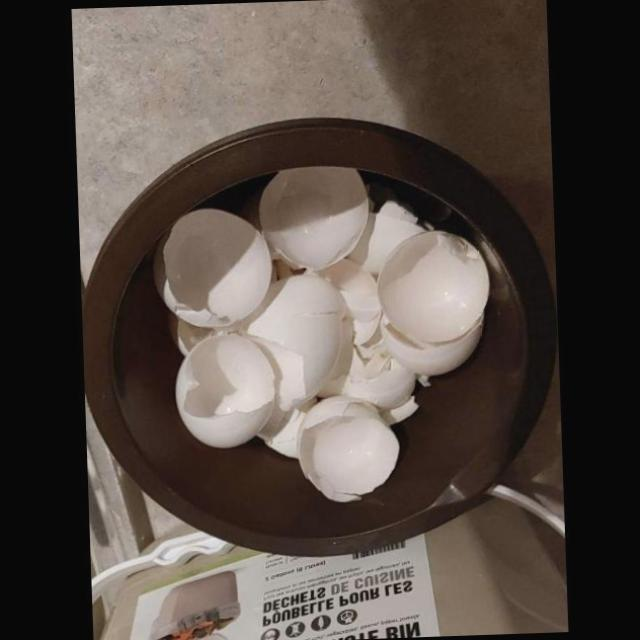vo_trung: (245, 268, 345, 411), (152, 208, 267, 326), (377, 227, 488, 344), (257, 164, 368, 268), (174, 332, 274, 447), (295, 393, 399, 500), (316, 324, 418, 425), (379, 312, 483, 375), (349, 199, 428, 275), (313, 258, 380, 345), (255, 396, 317, 458)
